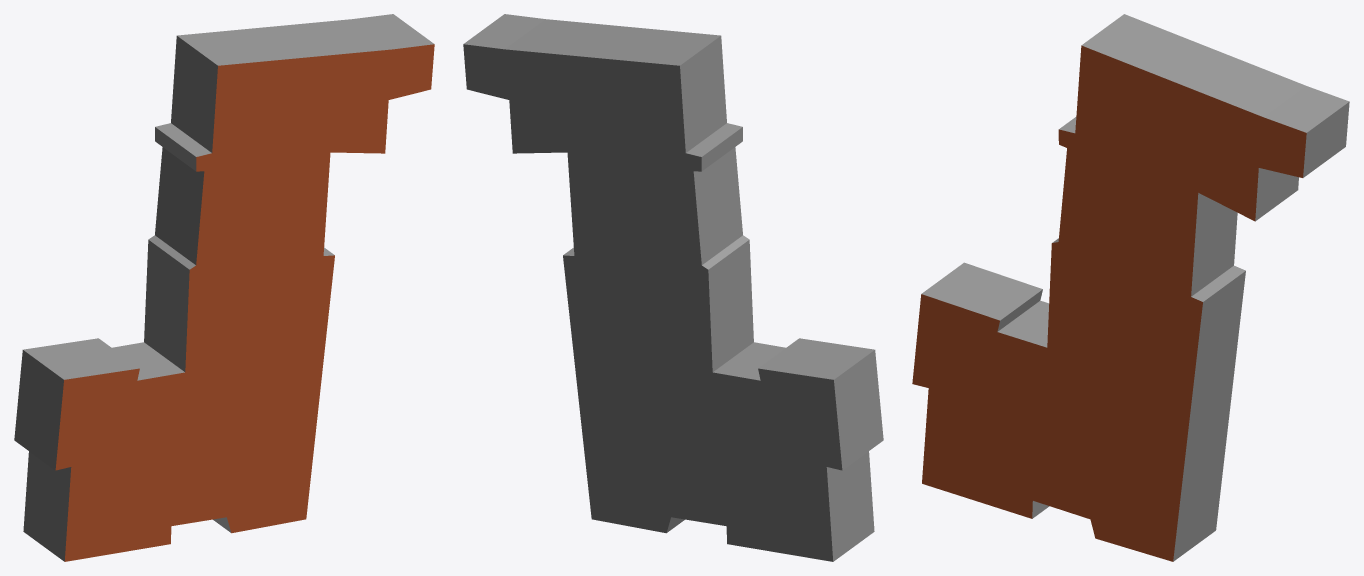
The model's file is construction_3668_assumed_A_Casa_h6m.obj.
3 views of the same model, side by side, from view 1: azimuth 30°, elevation 25°; view 2: azimuth 150°, elevation 25°; view 3: azimuth 330°, elevation 25° (orthographic). The views are drawn at different scales.
Parts seen in each view (by area): view 1: construction_3668_assumed_A_Casa; view 2: construction_3668_assumed_A_Casa; view 3: construction_3668_assumed_A_Casa.
Boxes of the visible parts, bbox=[...] form: construction_3668_assumed_A_Casa: bbox=[14, 14, 434, 561]; construction_3668_assumed_A_Casa: bbox=[463, 14, 883, 561]; construction_3668_assumed_A_Casa: bbox=[912, 14, 1349, 561].
Bounding box in the file's own units: 31.81 × 38.09 × 6.
